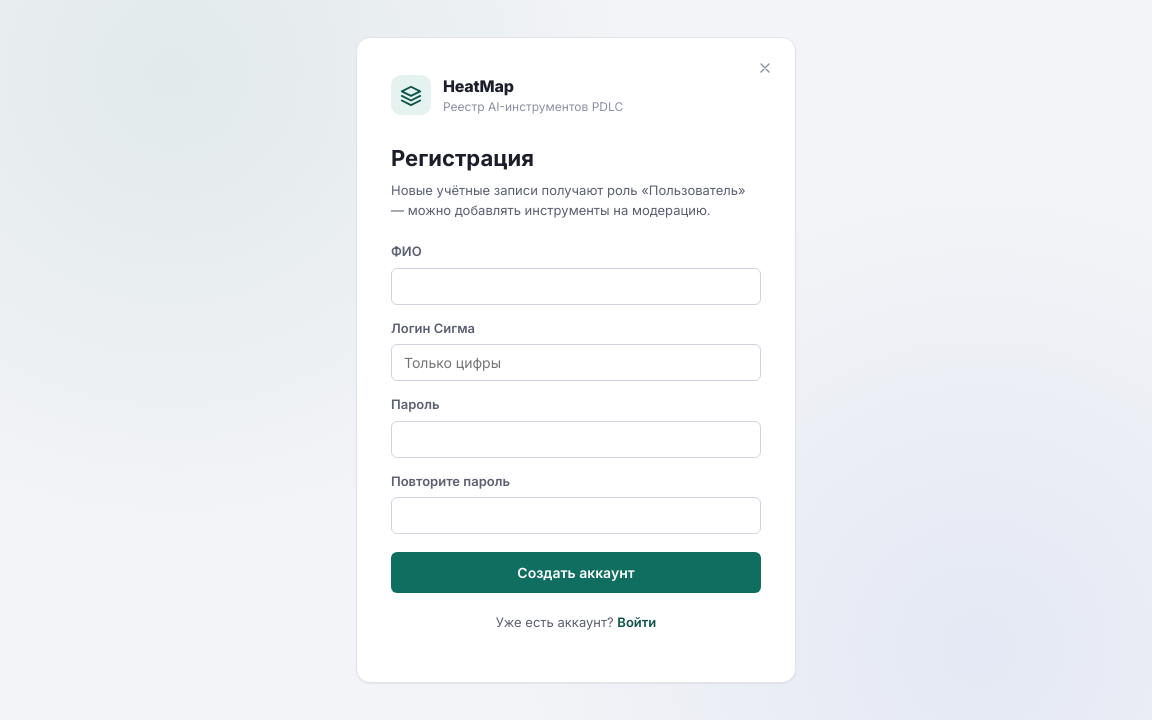
Test: RegisterView › rejects a username shorter than 3 characters
Type "Новый Пользователь" into the field with id "fullName".
click(576, 286); type("Новый Пользователь")  # box [391,268,761,305]
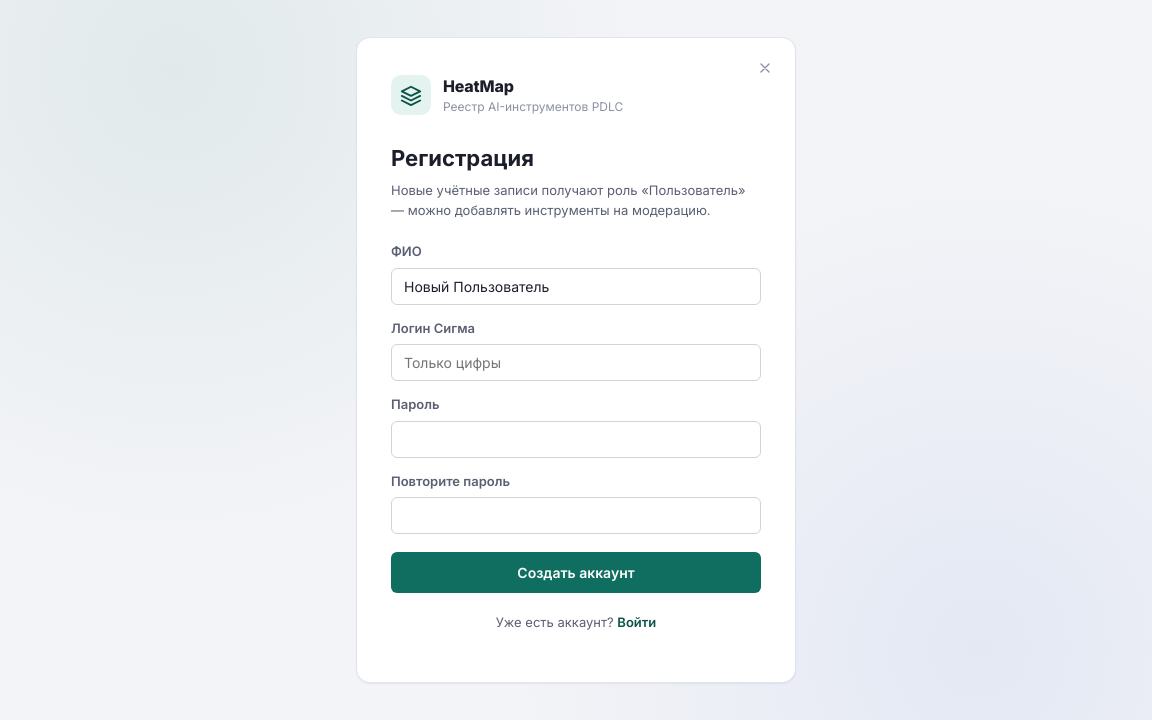
Type "12" into the field with id "username".
click(576, 363); type("12")  # box [391,344,761,381]
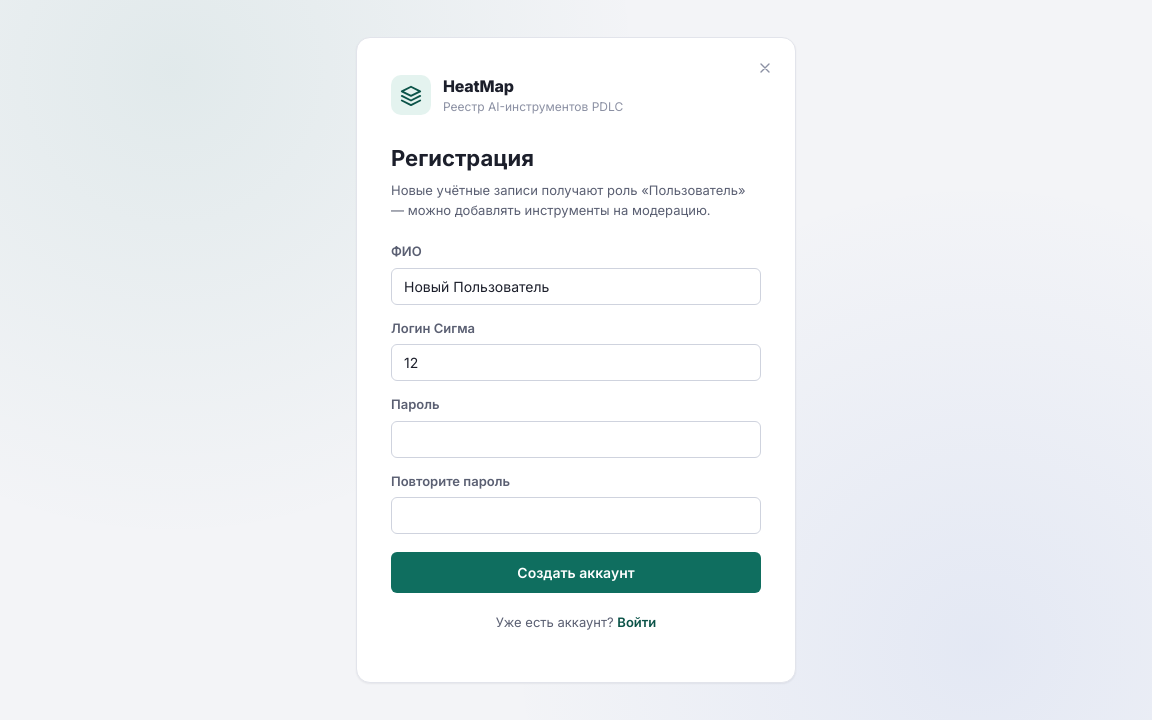
Type "pass123" into the password field labelled "Пароль".
click(576, 439); type("pass123")  # box [391,421,761,458]
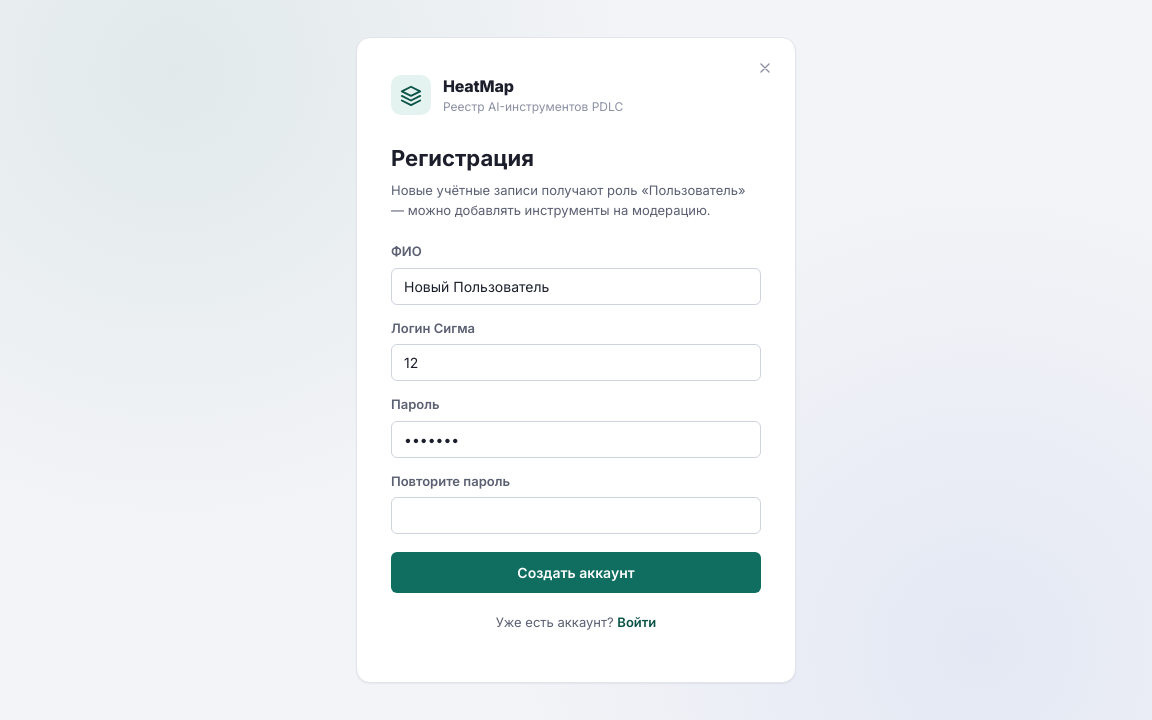
Type "pass123" into the password field with id "confirmPassword".
click(576, 516); type("pass123")  # box [391,497,761,534]
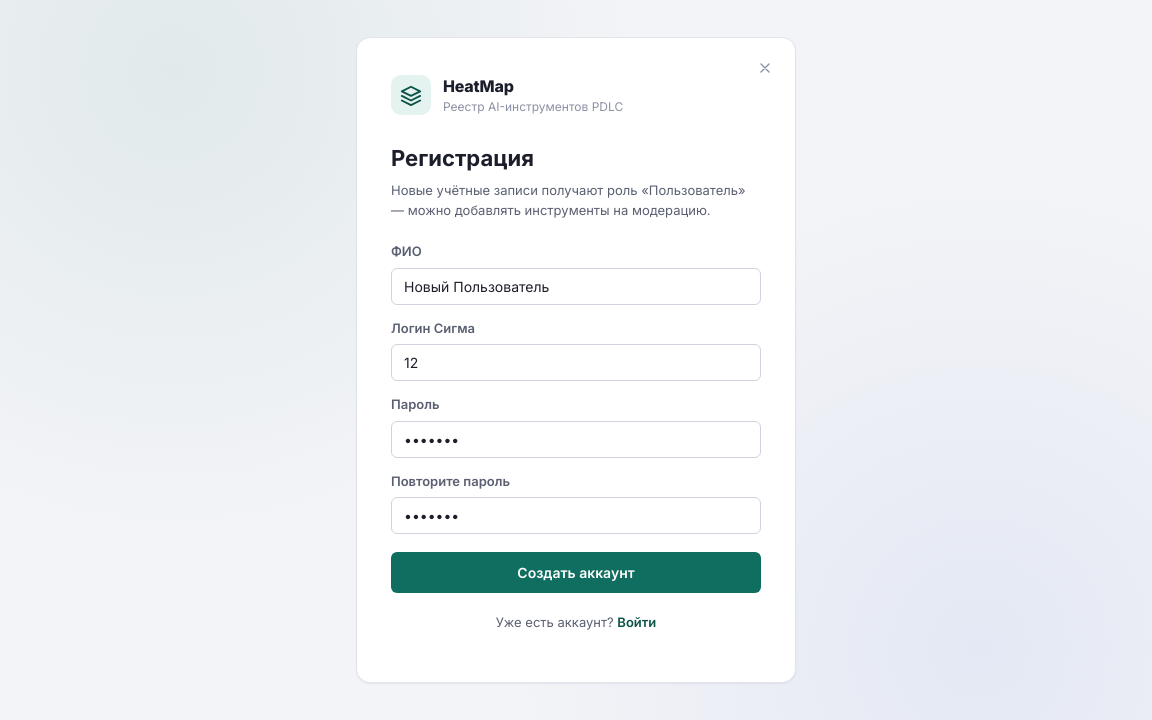
Submit the form, box [391,242,761,593]
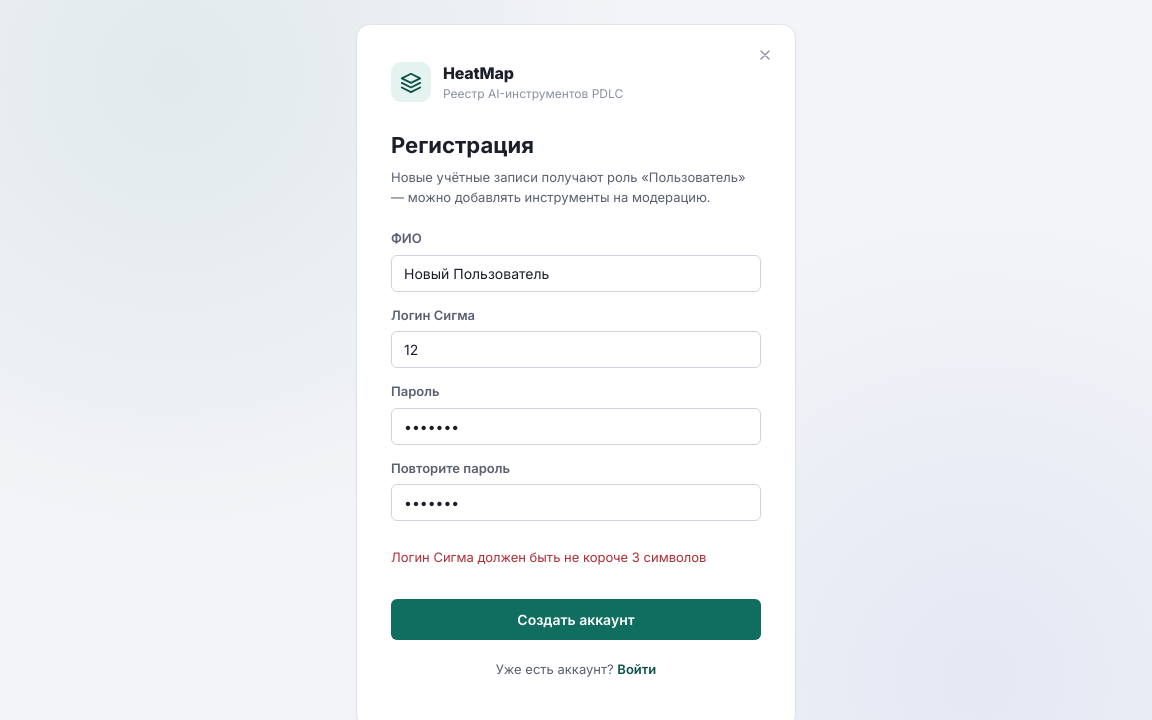
Now the text with class "error-text" reads "Логин Сигма должен быть не короче 3 символов", box [391,549,706,565]
